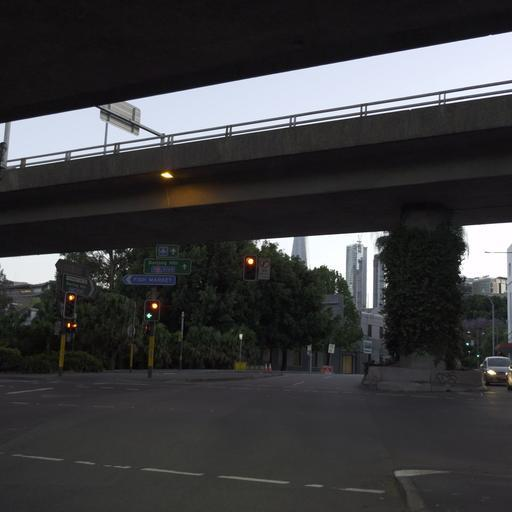Street light: (97, 105, 166, 145), (470, 292, 495, 356), (484, 293, 495, 355), (242, 254, 257, 281), (143, 299, 159, 321), (63, 291, 76, 318), (237, 331, 243, 360)
